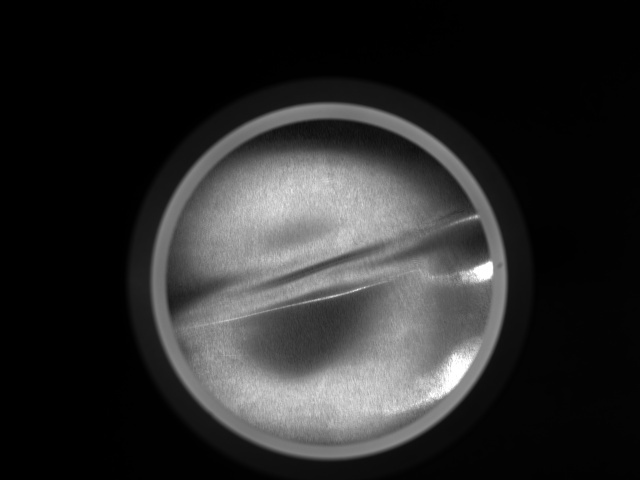zhe_zhou: (208, 147, 446, 412)
